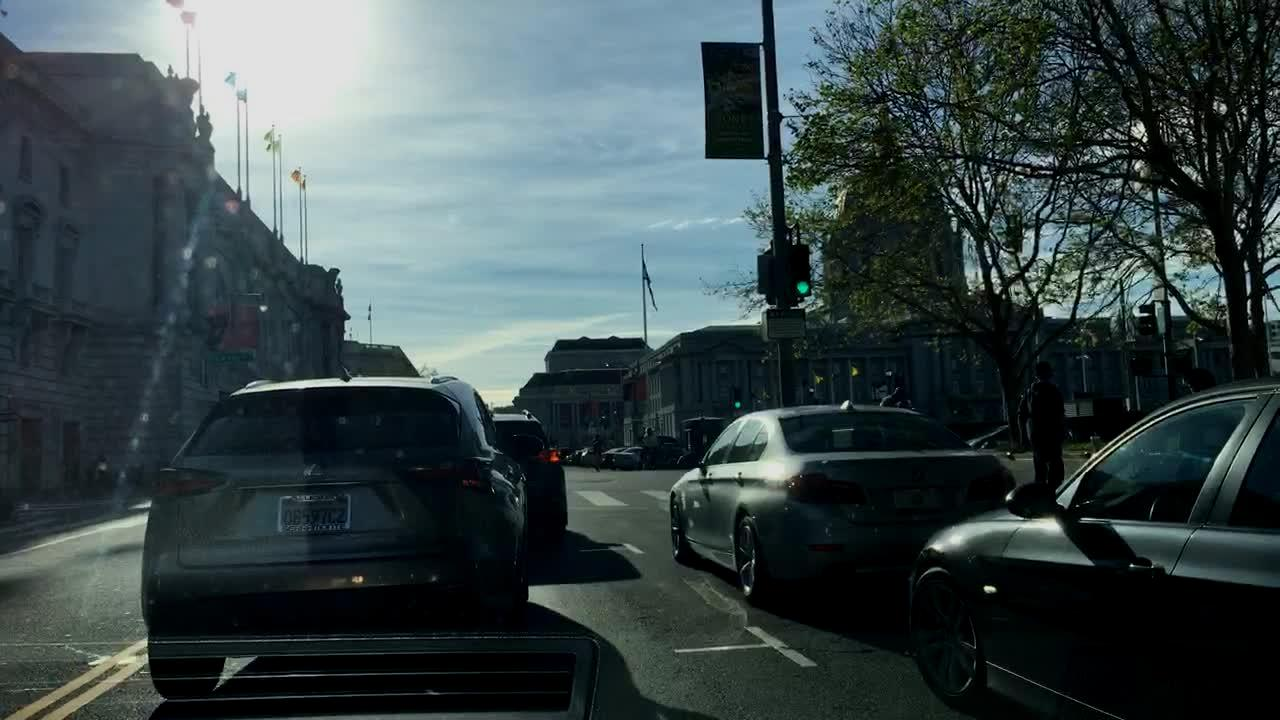bmw: (902, 465, 930, 488)
lexus: (292, 458, 334, 487)
